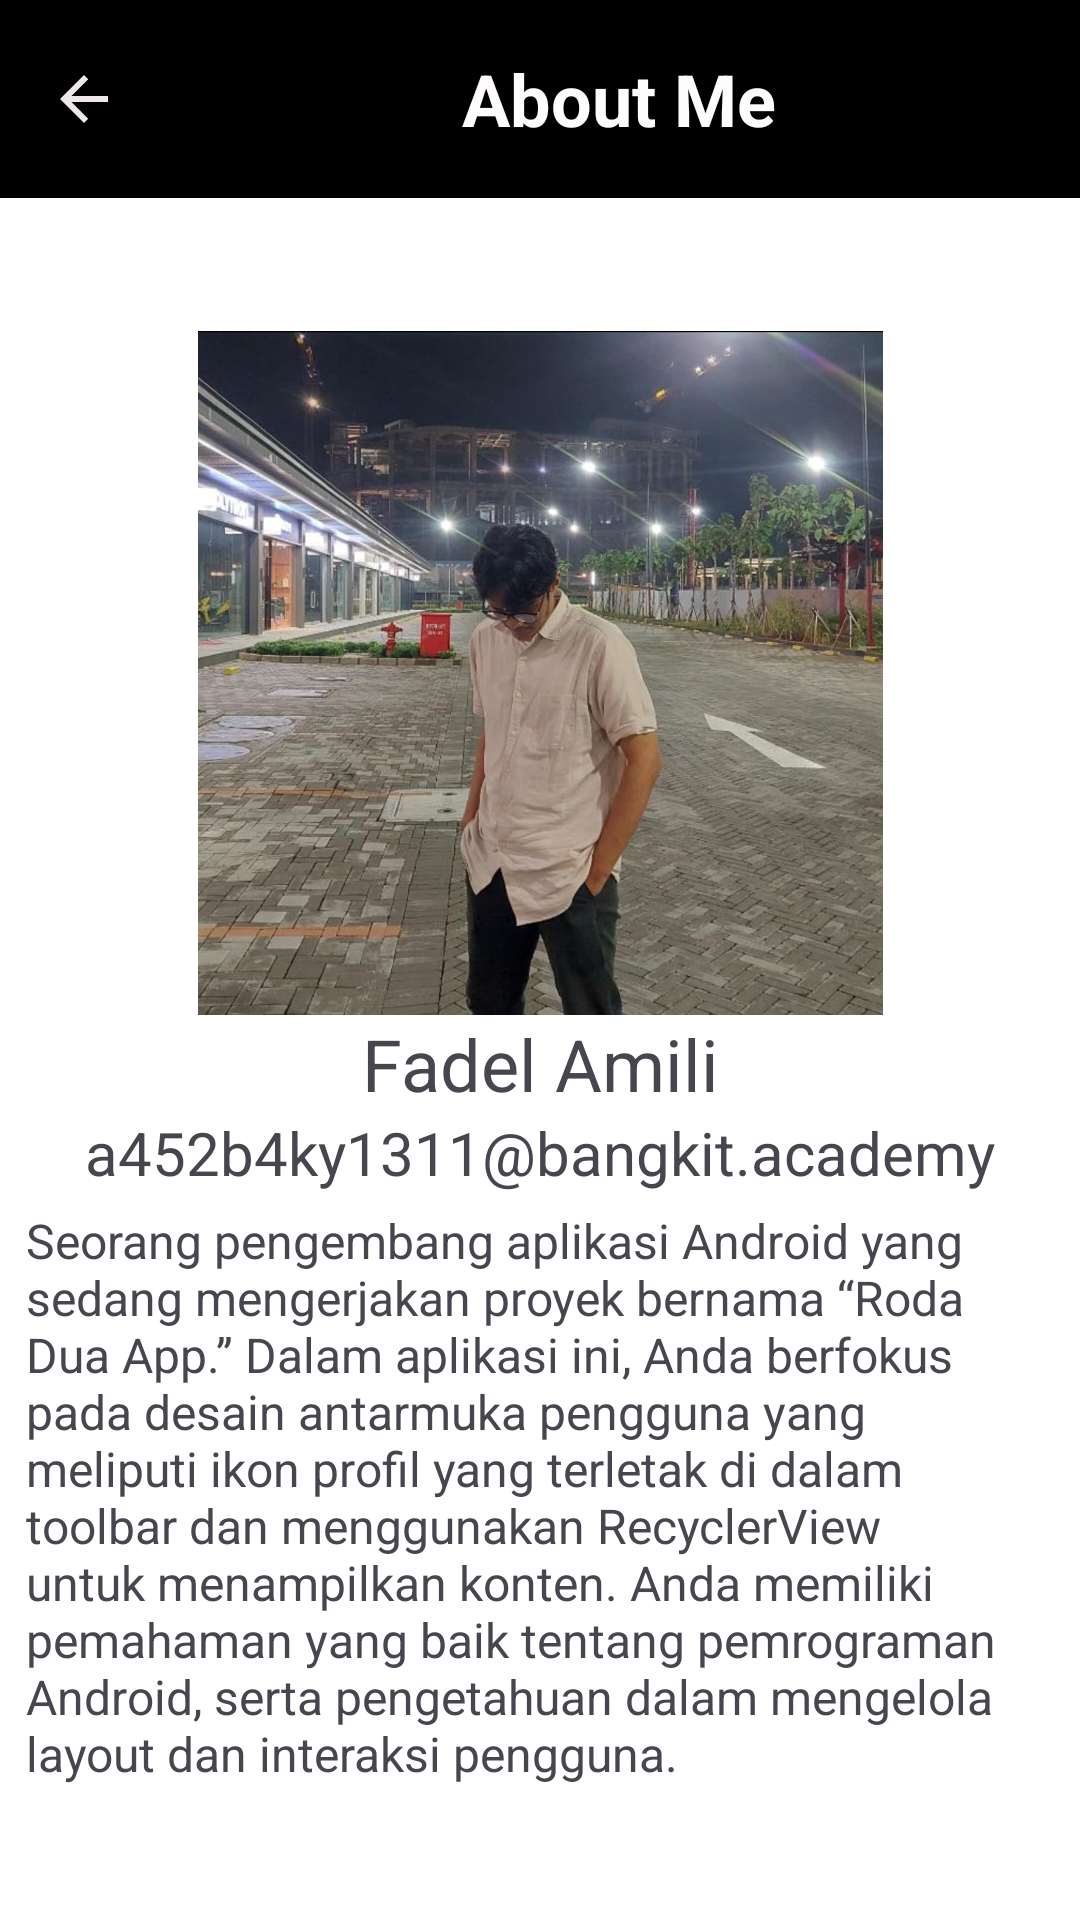

Screen size 1080×1920. Icon name, then its box in pixels as (x1, y1, x2, y2):
arrow back: (60, 75, 108, 123)
